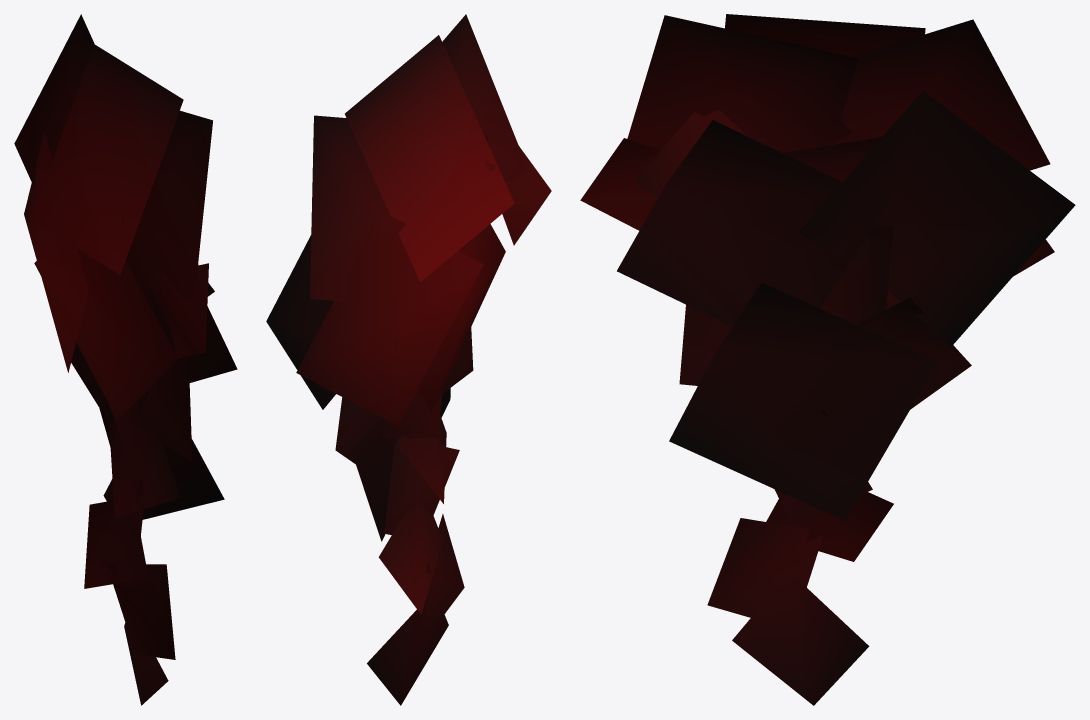
File: TGV_Ivy_06A.fbx
3 renders of one model, left to right at view 1: azimuth 30°, elevation 25°; view 2: azimuth 150°, elevation 25°; view 3: azimuth 270°, elevation 25°, orthographic. The views are drawn at different scales.
Visible parts, largest first — view 1: TGV_Ivy__06A_LOD1; view 2: TGV_Ivy__06A_LOD1; view 3: TGV_Ivy__06A_LOD1.
Boxes of the visible parts, x1,y1,x2,y2 form: TGV_Ivy__06A_LOD1: [14, 14, 237, 705]; TGV_Ivy__06A_LOD1: [266, 14, 551, 705]; TGV_Ivy__06A_LOD1: [580, 14, 1075, 705].
Size of the model in its own units: 33.46 by 241 by 156.
